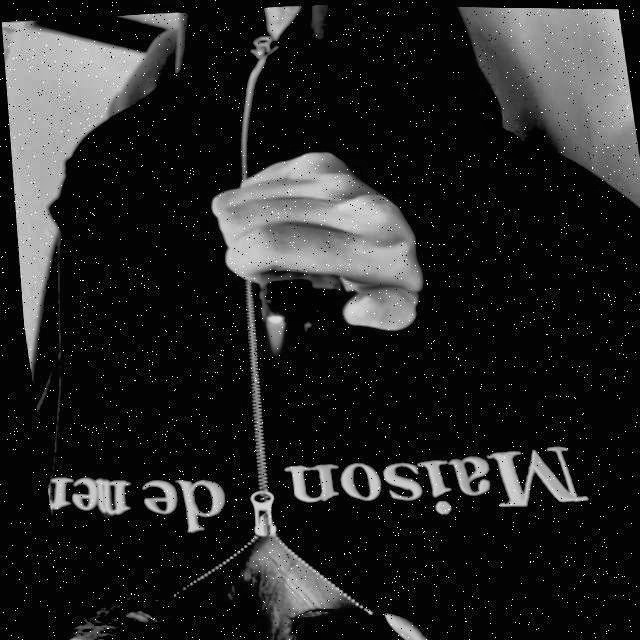Fire: (258, 312, 286, 362)
